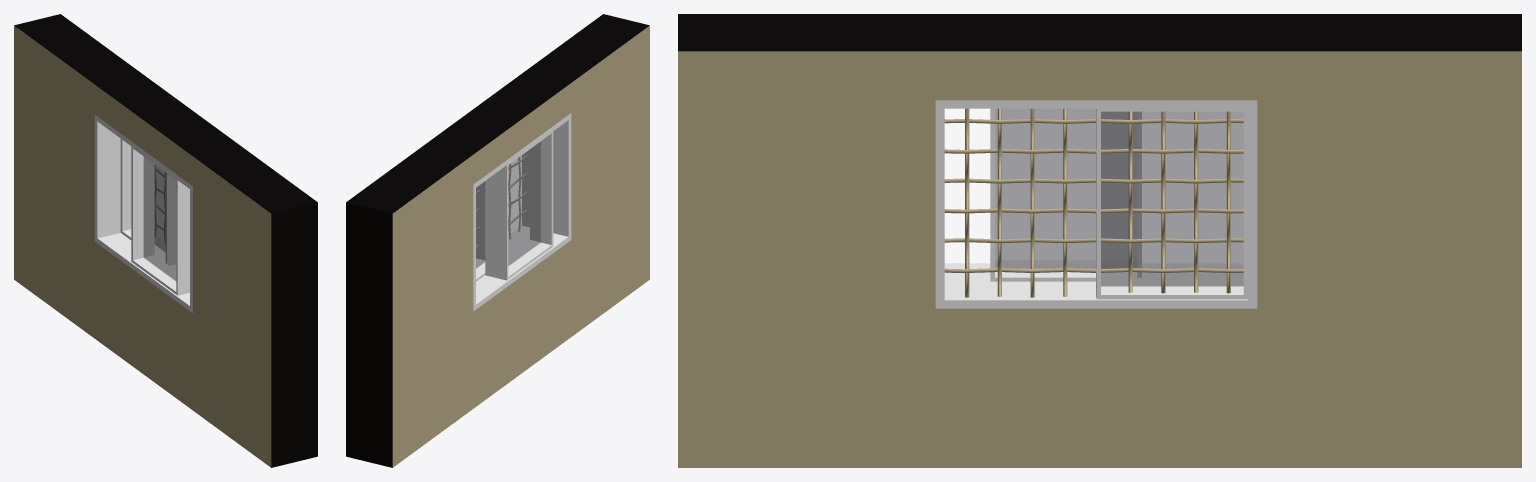
The model's file is windowwall10.FBX.fbx.
3 renders of one model, left to right at view 1: azimuth 30°, elevation 25°; view 2: azimuth 150°, elevation 25°; view 3: azimuth 270°, elevation 25°, orthographic. The views are drawn at different scales.
Visible parts, largest first — view 1: Box002, SlidingWindow001; view 2: Box002, SlidingWindow001; view 3: Box002, SlidingWindow001.
Part boxes in pixels (box(x1,y1,x2,y2)): Box002: box(14, 14, 317, 467); SlidingWindow001: box(94, 115, 192, 312); Box002: box(346, 14, 649, 467); SlidingWindow001: box(473, 113, 571, 311); Box002: box(678, 14, 1521, 467); SlidingWindow001: box(935, 100, 1257, 308).
Bounding box in the file's own units: 8.87 × 46.22 × 84.82.
